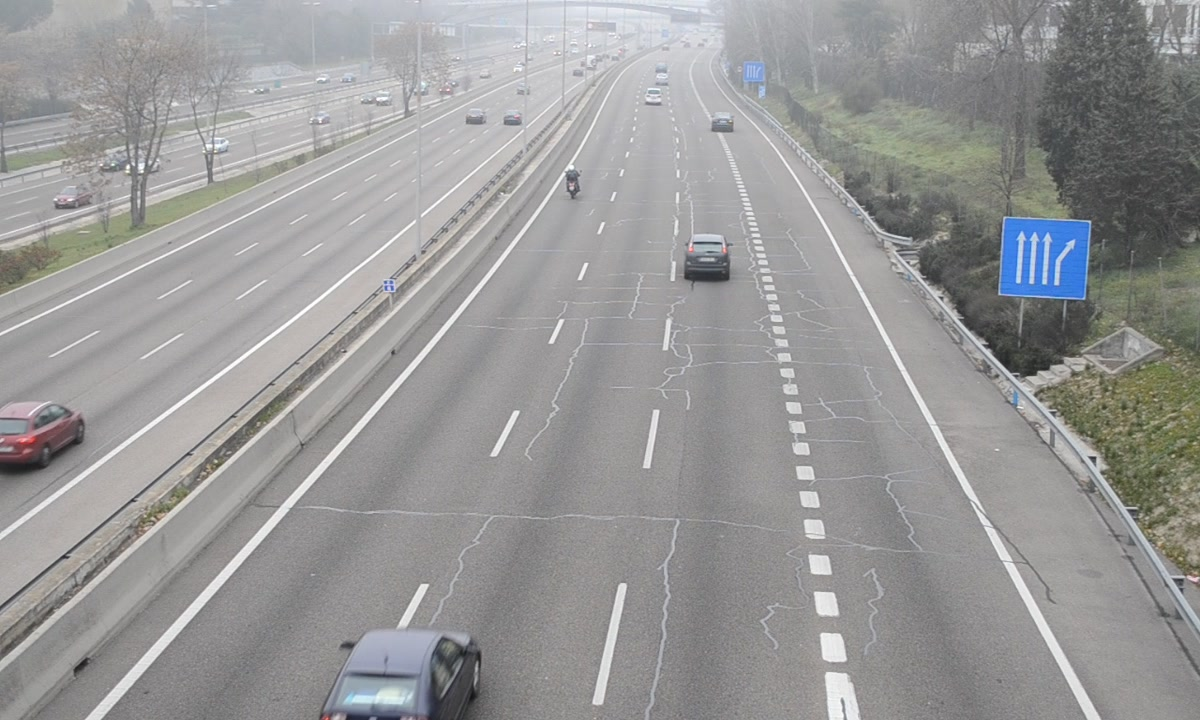car: (325, 628, 481, 720), (684, 233, 732, 282), (711, 112, 732, 133), (646, 88, 662, 106)
motorcycle: (563, 165, 581, 201)
